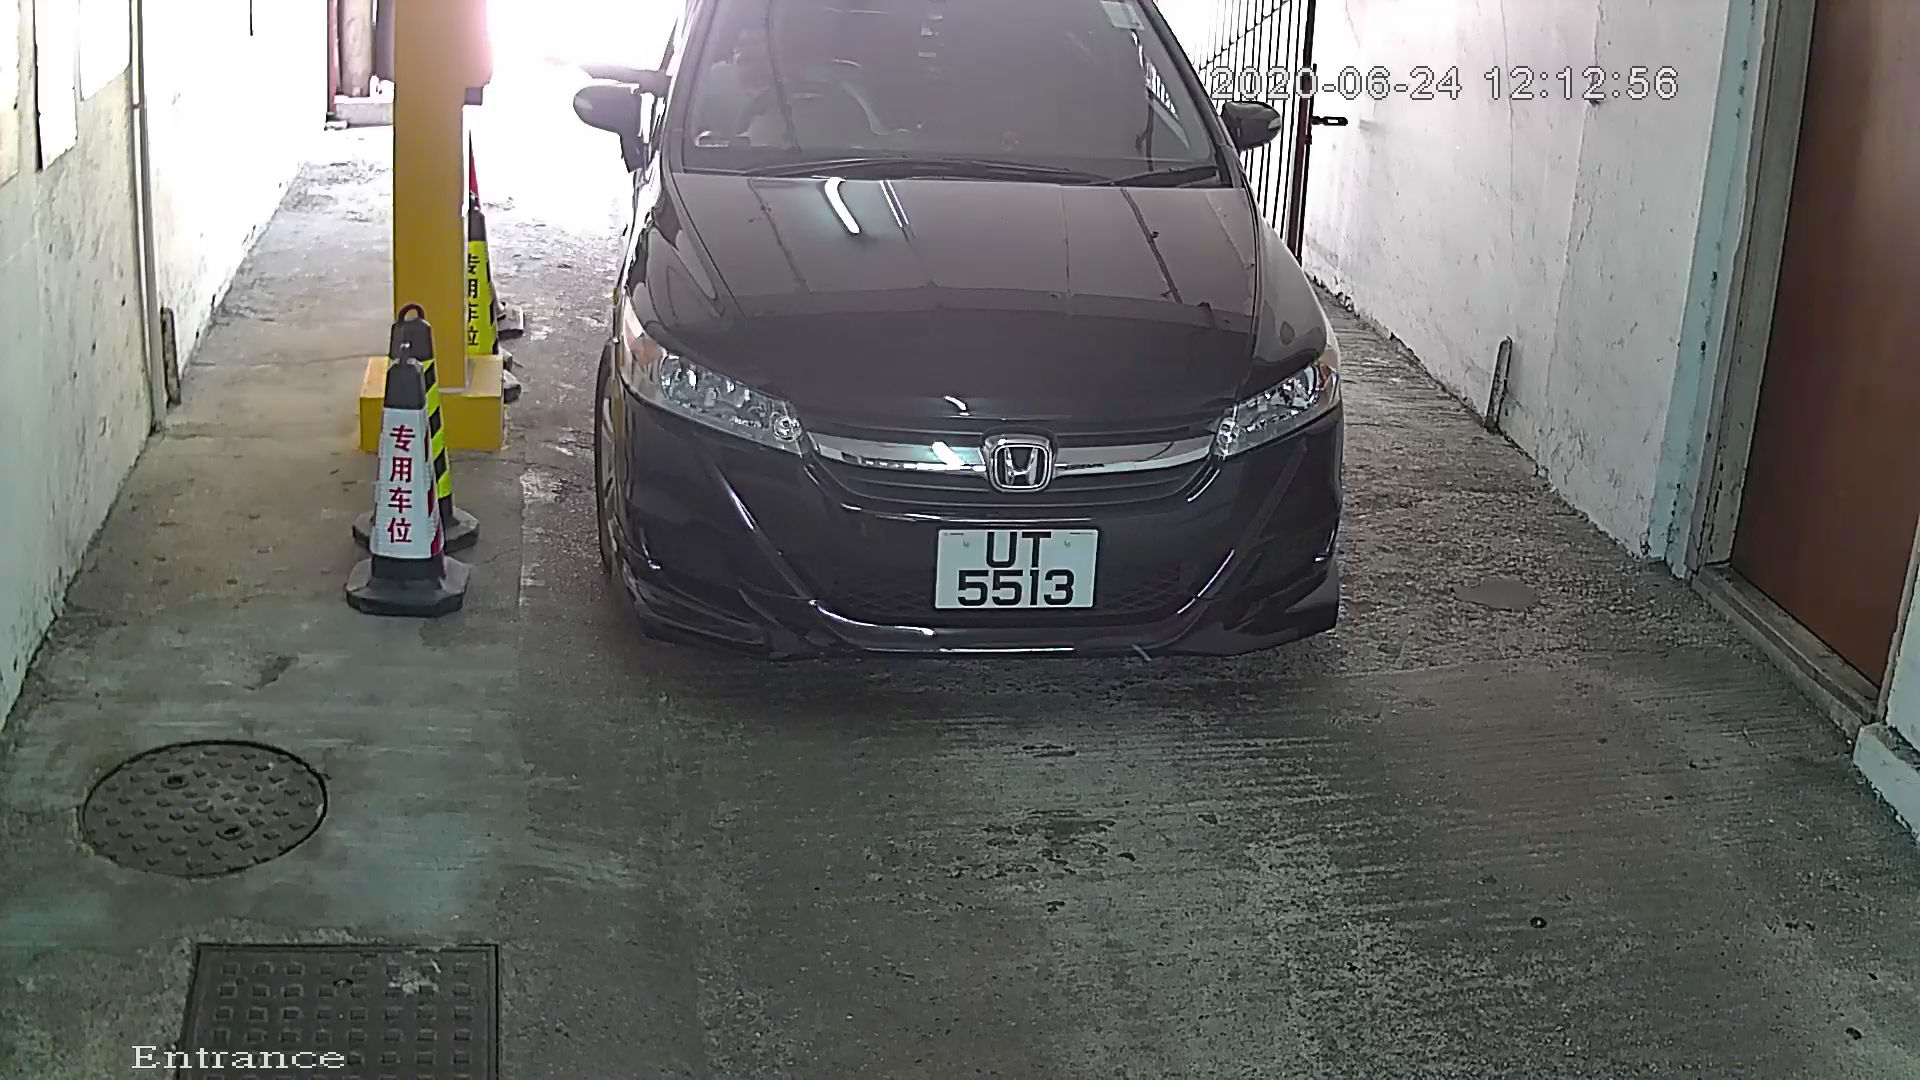Car: (542, 1, 1424, 788)
License Plate: (923, 506, 1120, 635)
